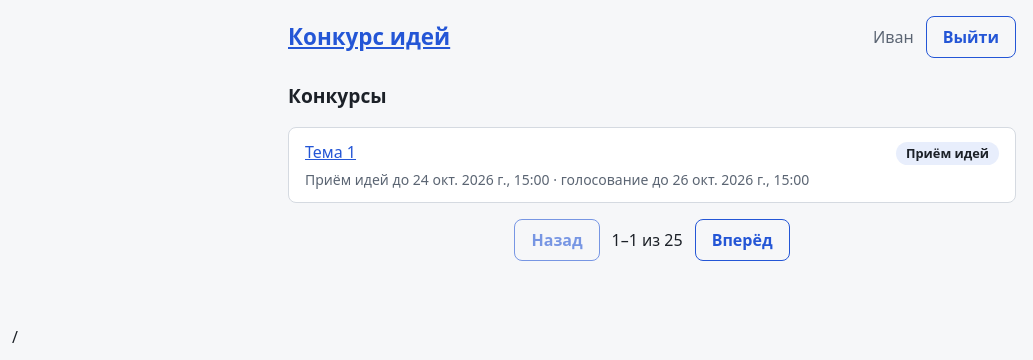
Test: список конкурсов › постраничный просмотр: 25 конкурсов — вторая страница по offset
Expected: the link "Тема 1" is shown, 305,140 -> 356,164
Expected: the button "Назад" is disabled, 514,219 -> 600,261
Click the button "Вперёд" at [742, 240], box 695,219 -> 790,261
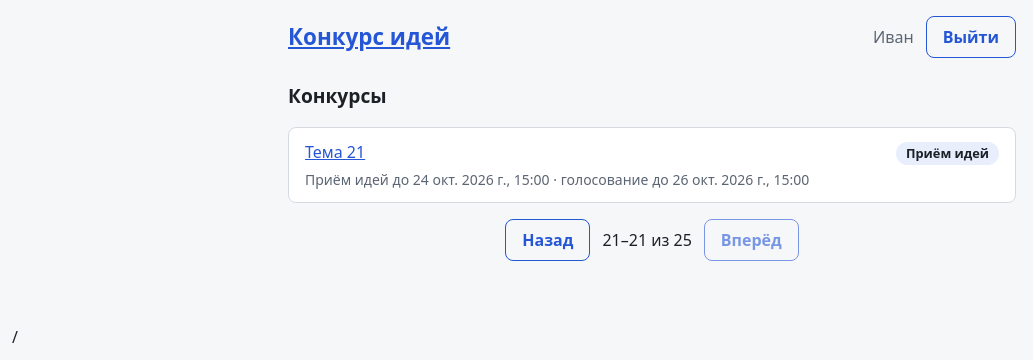
Result: the link "Тема 21" is shown at 305,140 -> 365,164
Result: the button "Вперёд" is disabled at 704,219 -> 799,261
